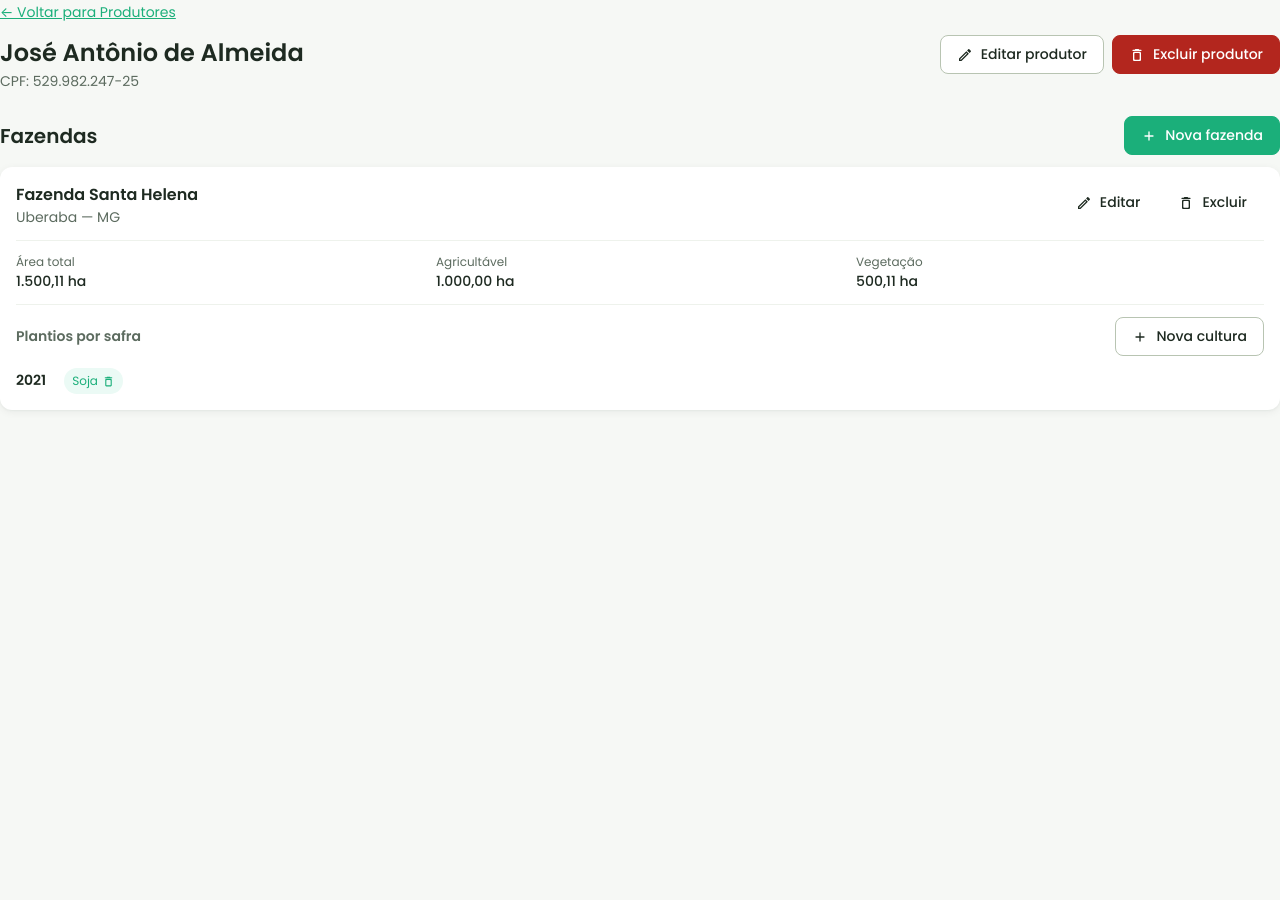
Test case: ProducerDetail › warns that farms and plantings go with the producer
This screenshot has width=1280, height=900.
expect the heading "José Antônio de Almeida" is shown: met, box [0, 35, 304, 71]
What coordinates should you click on to do the following:
click the button "Excluir produtor"
I would click on:
 (1196, 54)
Its box is [1112, 35, 1279, 74].
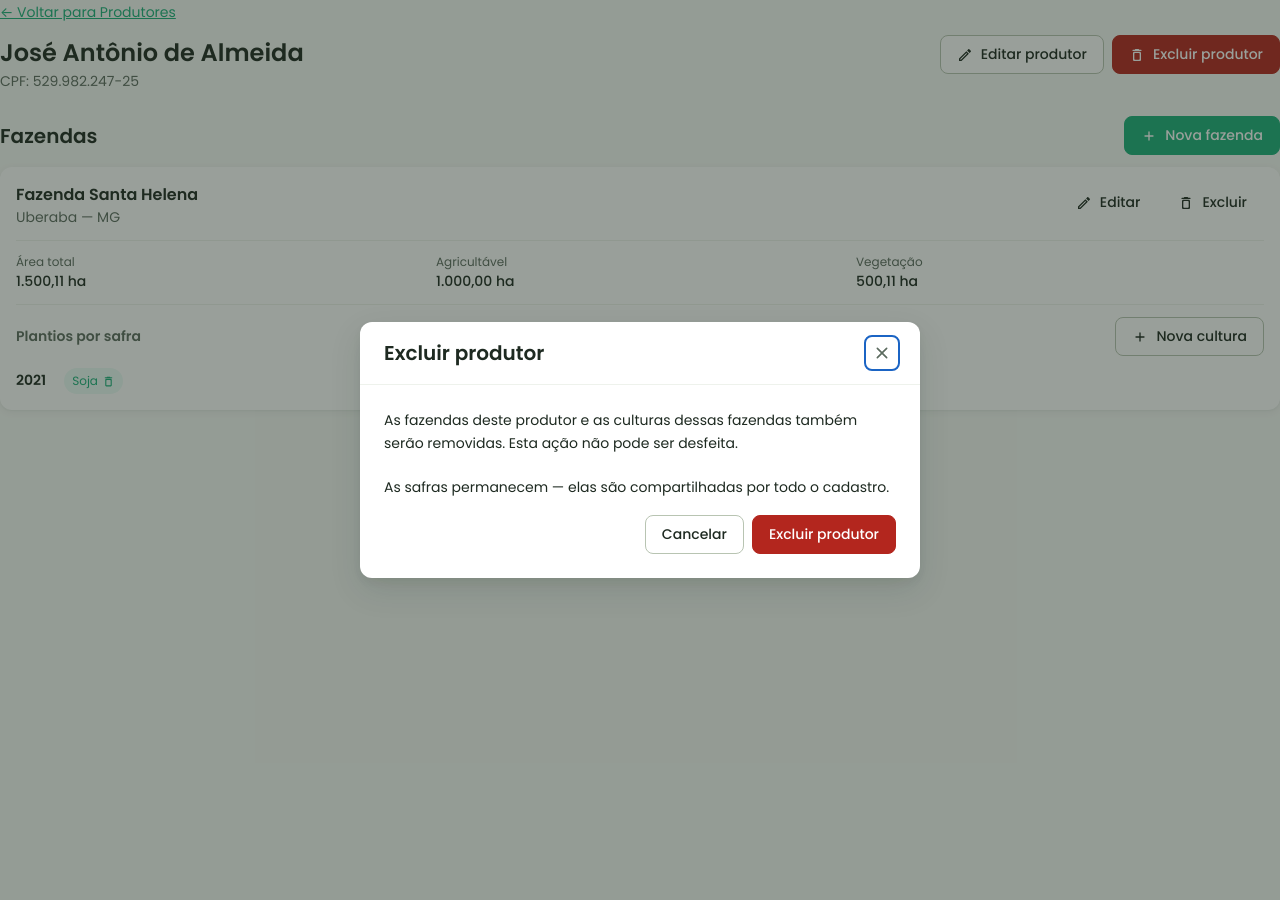
expect the text "As fazendas deste produtor e as culturas dessas fazendas também serão removidas" is shown: met, box [384, 410, 857, 453]
expect the text "As safras permanecem" is shown: met, box [384, 477, 889, 497]
